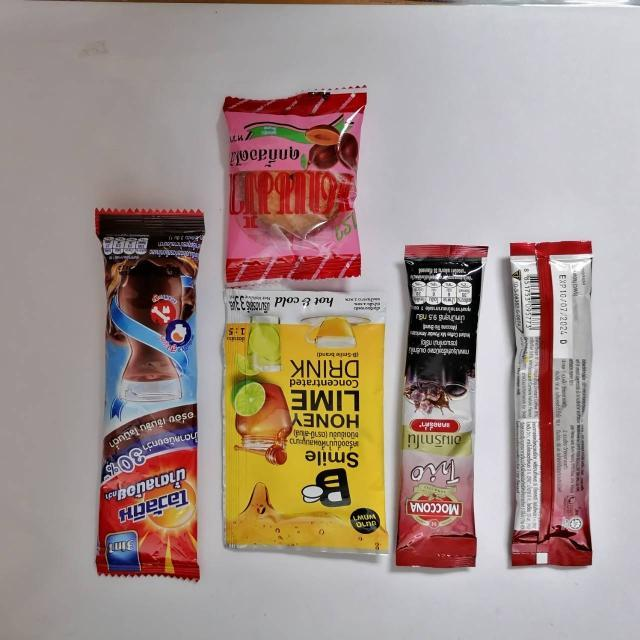Paquete de plastico: (224, 291, 388, 555), (95, 209, 205, 579), (396, 245, 489, 570), (223, 86, 367, 289), (510, 240, 594, 570)
